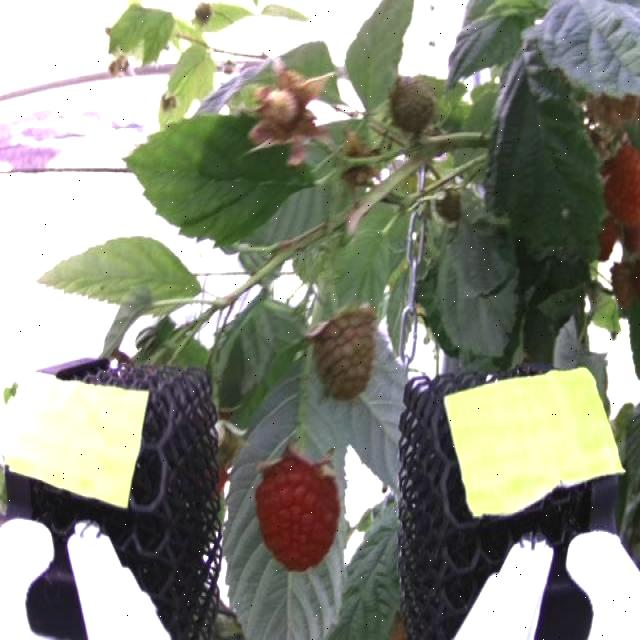Riped berries: (248, 446, 346, 572), (603, 138, 640, 224), (592, 212, 624, 260)
